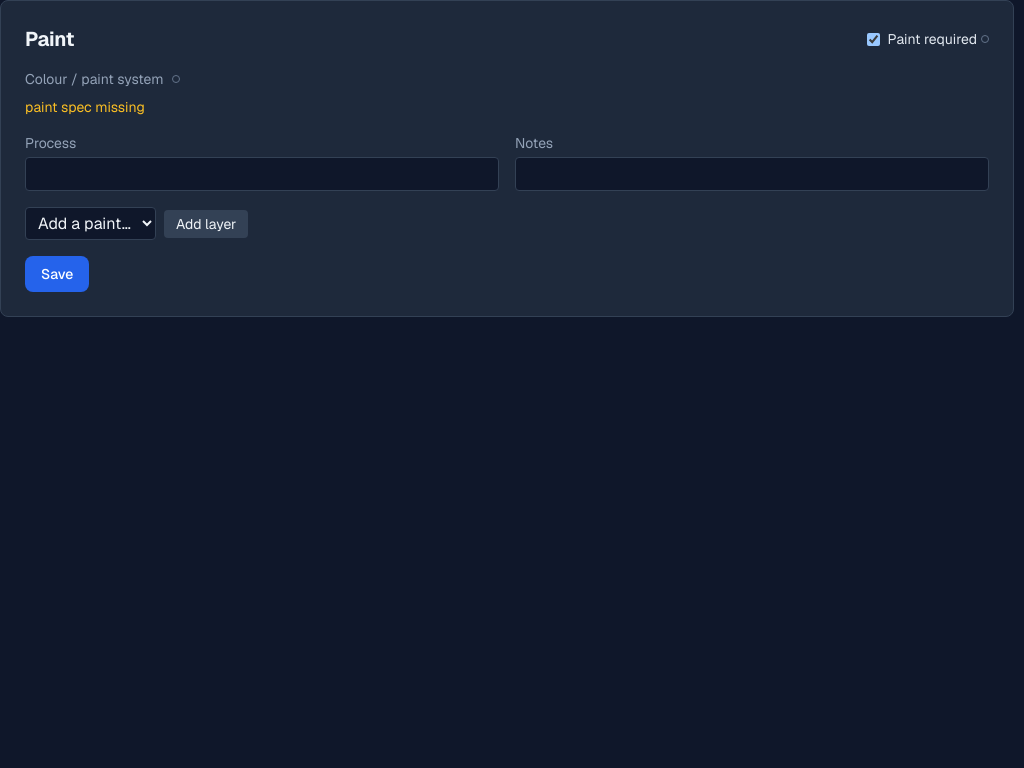
Test case: PartPaintCard › shows field history on the paint markers when a project id is given
The width and height of the screenshot is (1024, 768).
Click the button with test id "note-marker-paint.painted" at (985, 39), box [981,35,989,43]
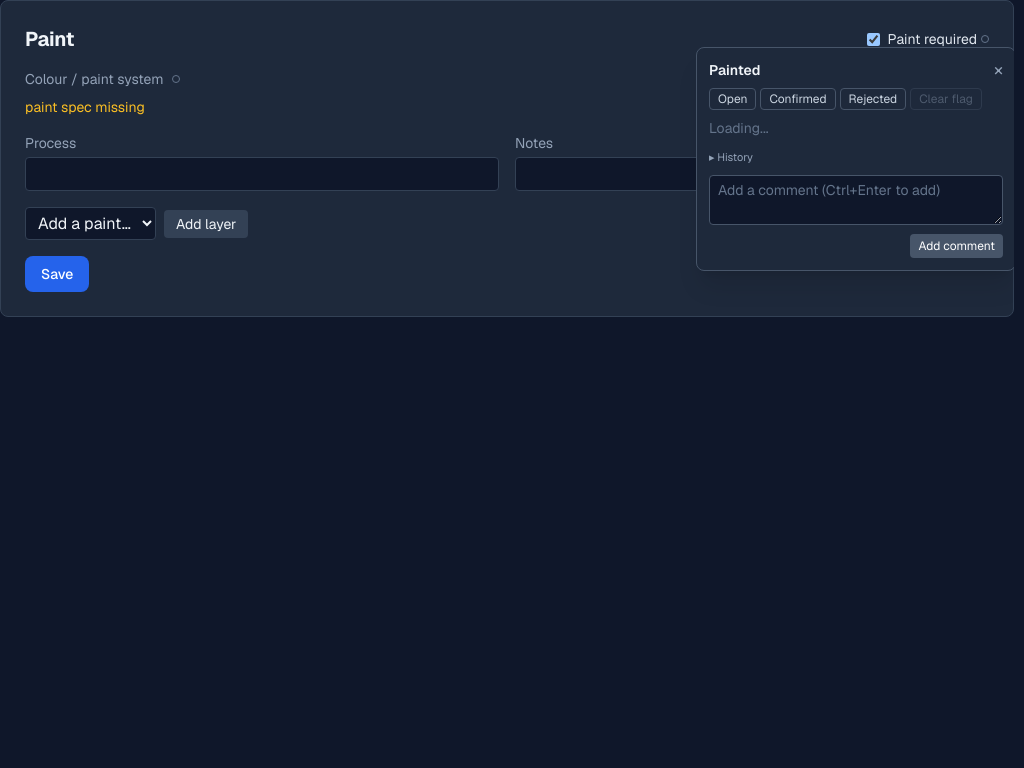
Check: the button with test id "note-history-toggle" is shown, box [709,147,753,167]
Click the button with test id "note-marker-paint.painted" at (985, 39), box [981,35,989,43]
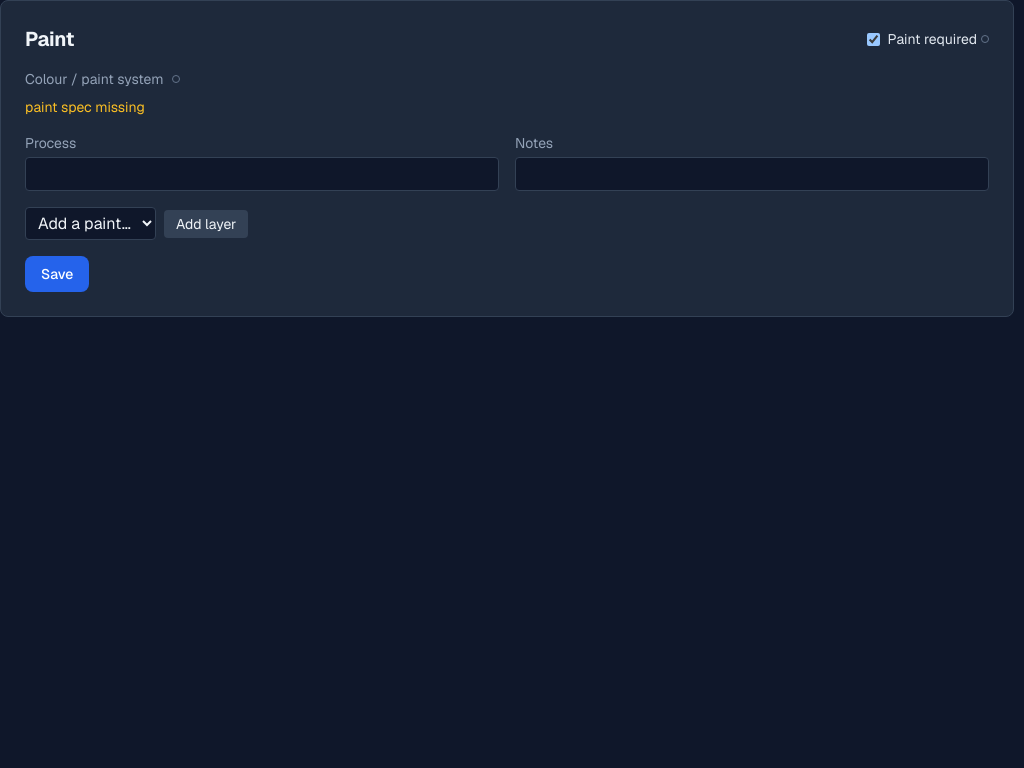
Click the button with test id "note-marker-paint.colour" at (176, 79), box [172,75,180,83]
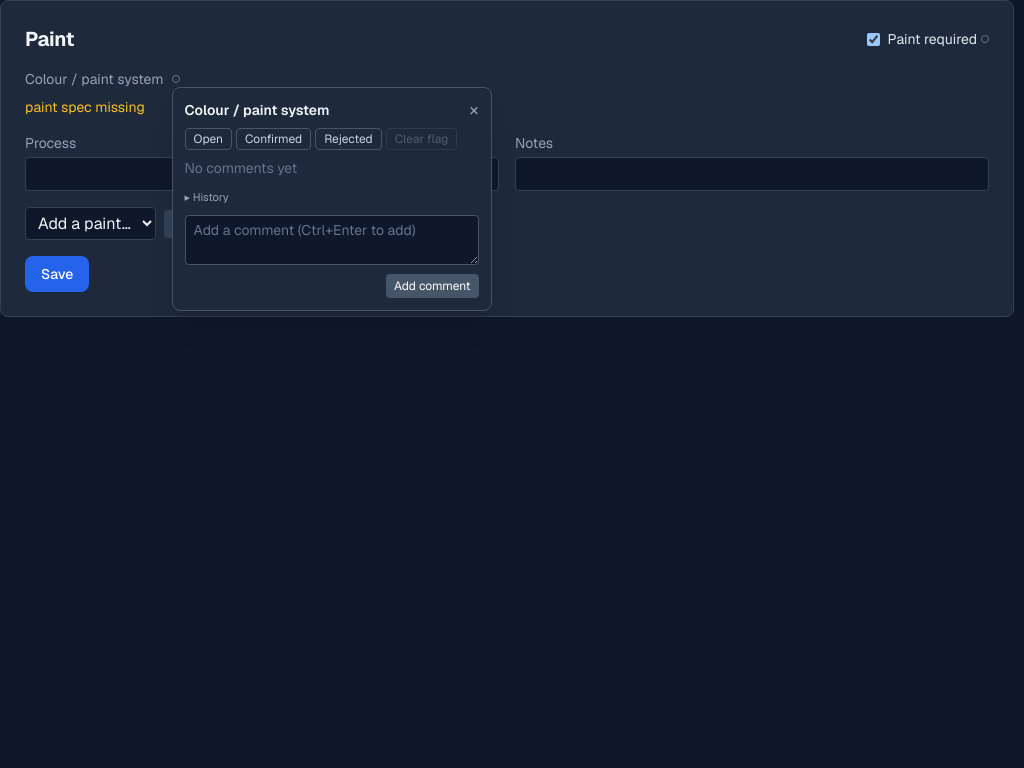
Check: the button with test id "note-history-toggle" is shown, box [184,187,228,207]
